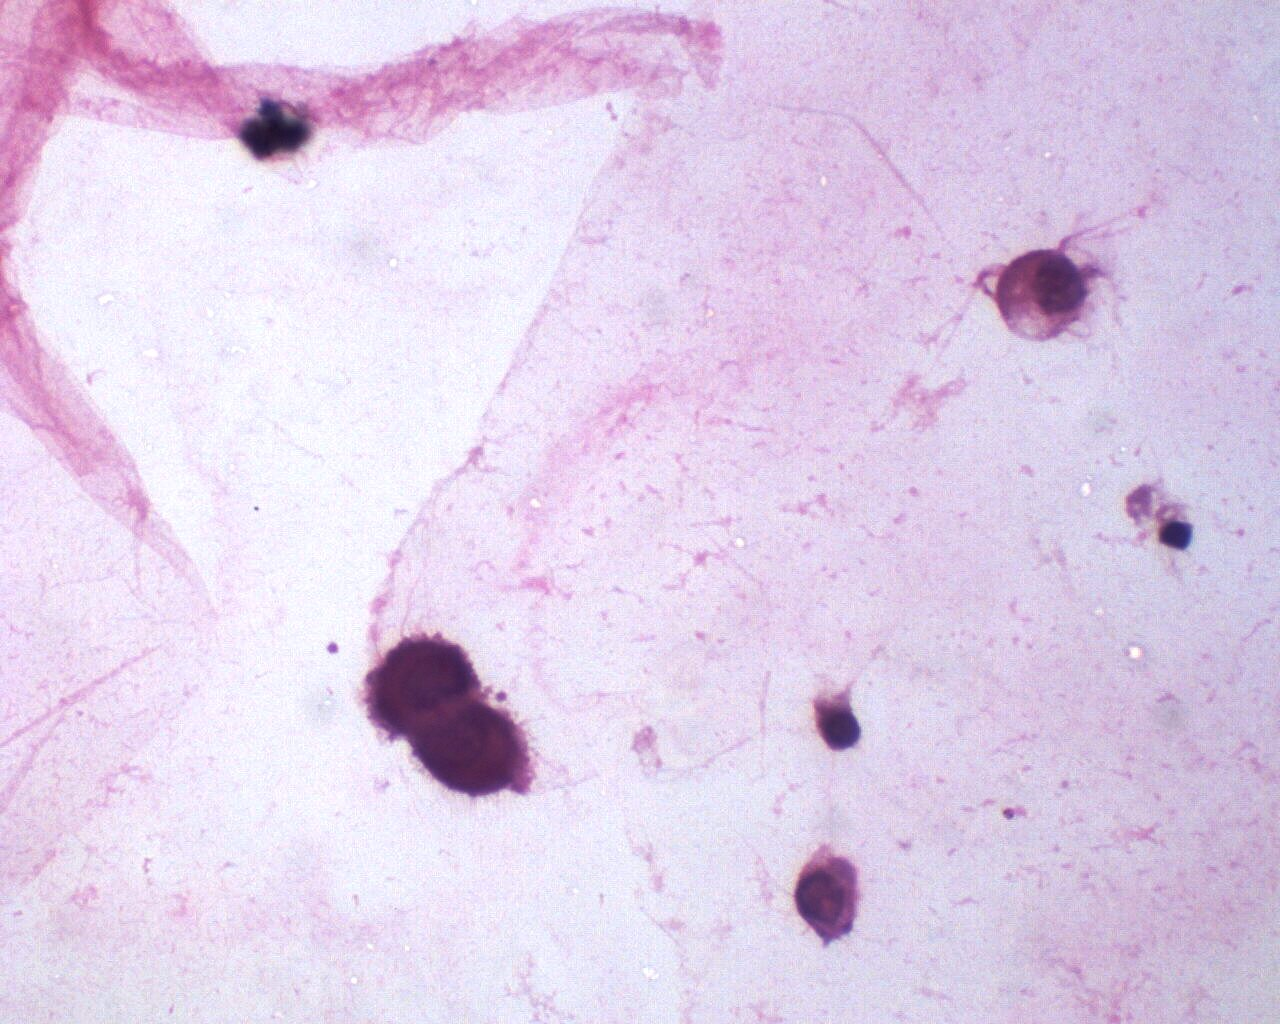ab: (413, 701, 535, 805), (990, 248, 1091, 345), (790, 850, 875, 952)
